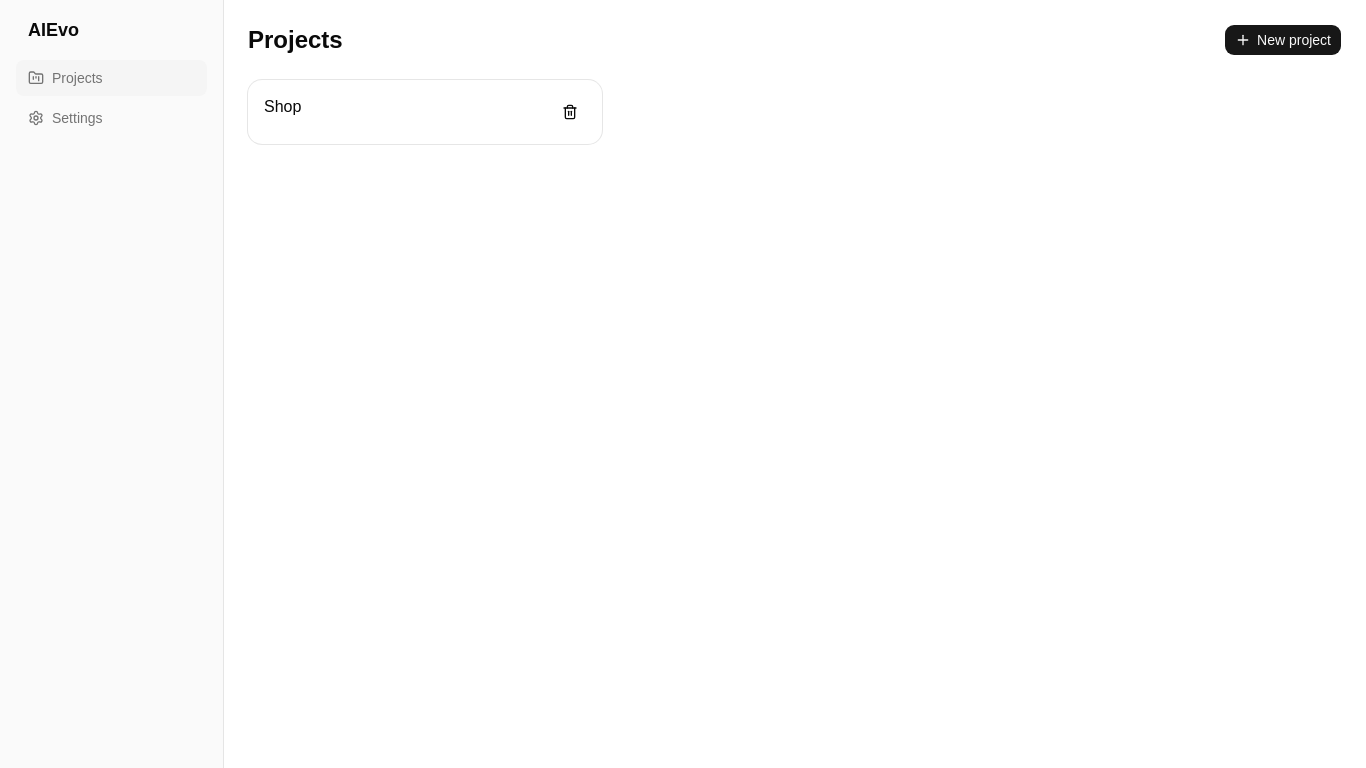
ProjectsPage › keeps the project and shows the error when deleting fails
Click the button named "Delete Shop". click: {"x": 570, "y": 112}
box: [554, 96, 586, 128]
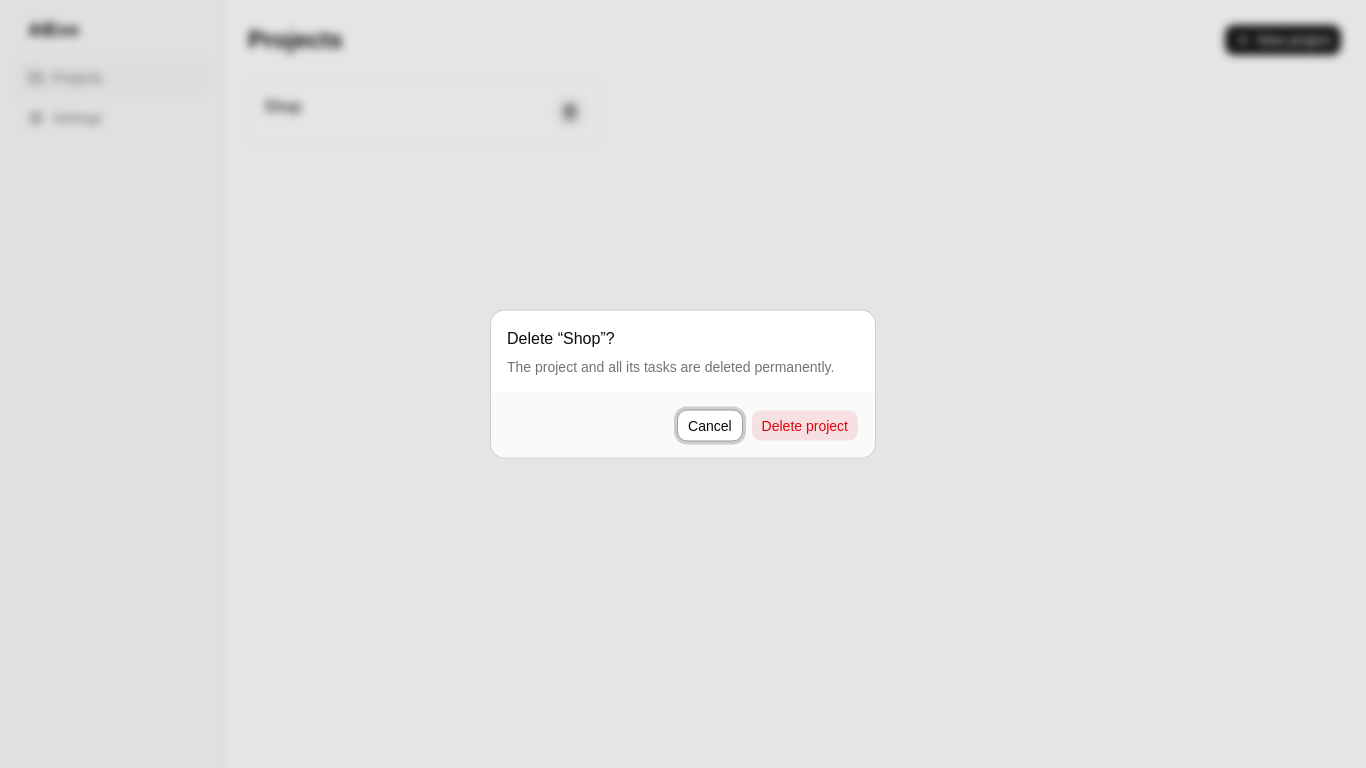
Click the button "Delete project". click: {"x": 805, "y": 426}
box: [751, 410, 859, 442]
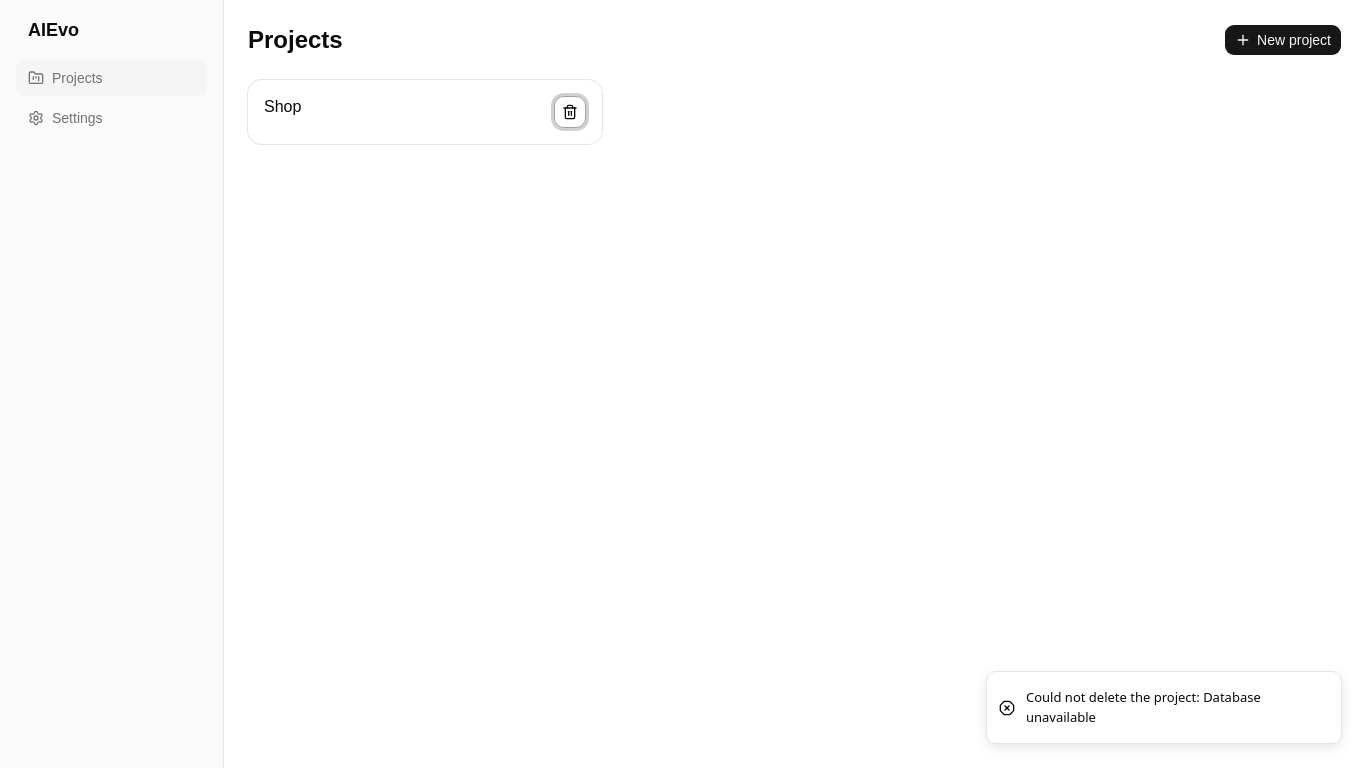
Expected: the element "Shop" is shown, [248, 80, 602, 144]
Expected: the text "Could not delete the project: Database unavailable" is shown, [1026, 688, 1261, 726]
